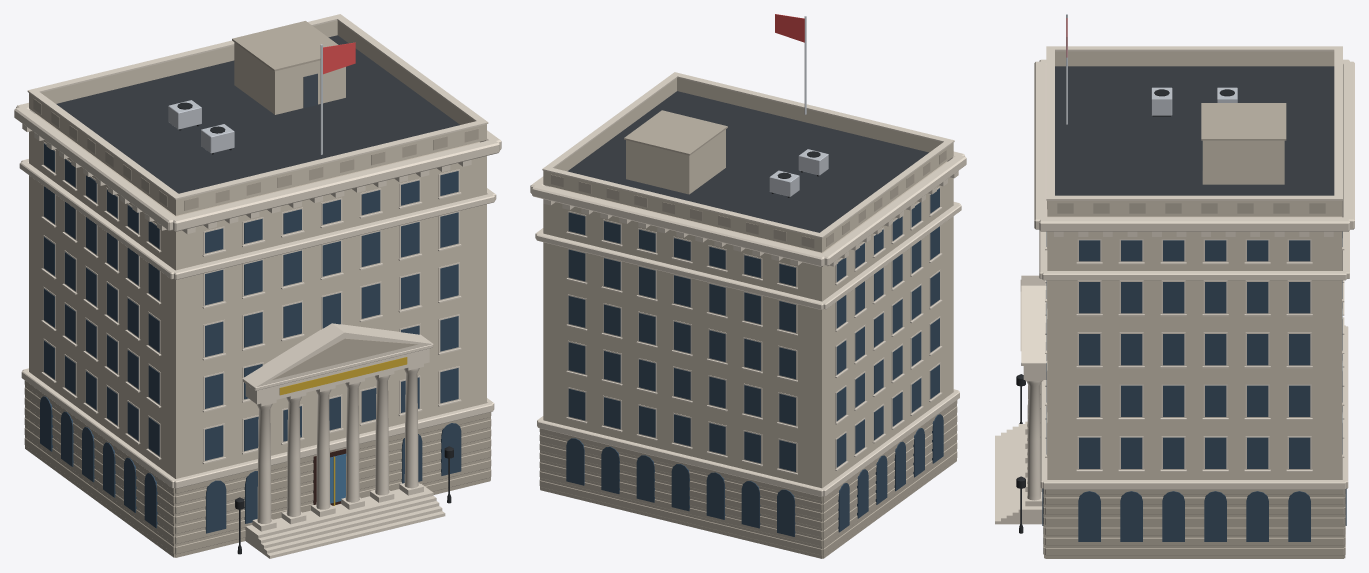
File: classic.glb
3 views of the same model, side by side, from view 1: azimuth 30°, elevation 25°; view 2: azimuth 150°, elevation 25°; view 3: azimuth 270°, elevation 25° (orthographic). The views are drawn at different scales.
Parts seen in each view (by area): view 1: classic; view 2: classic; view 3: classic.
Boxes of the visible parts, x1=… form: classic: x1=14, y1=14, x2=501, y2=558; classic: x1=530, y1=14, x2=966, y2=558; classic: x1=995, y1=14, x2=1354, y2=558.
Bounding box in the file's own units: 23.6 × 31.5 × 22.
